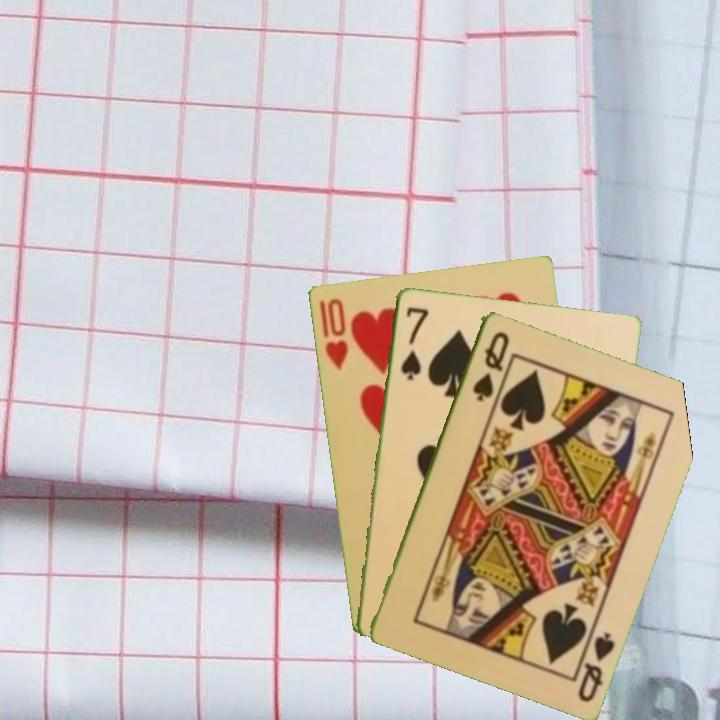10h: (315, 295, 351, 373)
7s: (396, 303, 431, 382)
Qs: (570, 623, 618, 705), (468, 327, 512, 404)
